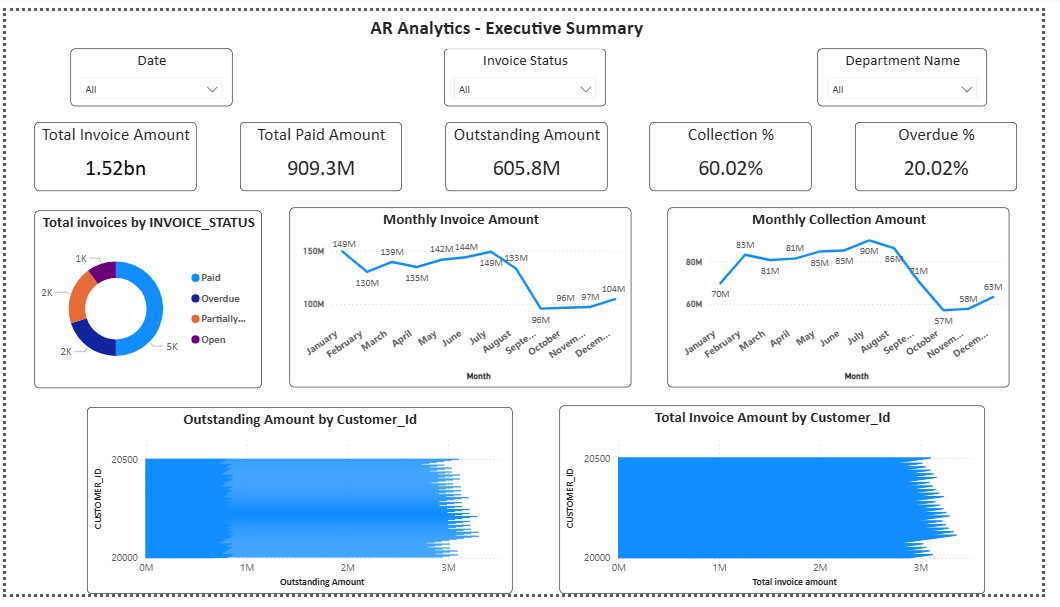

This screenshot's page, from the dashboard's own definition file:
{"tool":"powerbi","page":{"name":"AR Analytics - Executive Summary","canvas":[1280,720],"ordinal":0},"visuals":[{"type":"card","title":"Total Invoice Amount","fields":{"Values":["Table.total invoice amount"]},"box":[36,137.7,200,85],"z":0},{"type":"card","title":"Total Paid Amount","fields":{"Values":["Table.Total paid amount"]},"box":[288.9,137.7,200,85],"z":1000},{"type":"card","title":"Outstanding Amount","fields":{"Values":["Table.Outstanding amount"]},"box":[541.8,137.7,200,85],"z":2000},{"type":"card","title":"Collection %","fields":{"Values":["Table.Collection %"]},"box":[794.7,137.7,200,85],"z":3000},{"type":"card","title":"Overdue %","fields":{"Values":["Table.Overdue %"]},"box":[1047.6,137.7,200,85],"z":4000},{"type":"donutChart","fields":{"Category":["AR_INVOICES.INVOICE_STATUS"],"Y":["Table.Total invoices"]},"box":[34.9,245.5,281,219],"z":5000},{"type":"lineChart","title":"Monthly Invoice Amount","fields":{"Category":["Calendar.Month"],"Y":["Table.Monthly invoice amount"]},"box":[350.8,242.4,422.2,222.2],"z":6000},{"type":"lineChart","title":"Monthly Collection Amount ","fields":{"Category":["Calendar.Month"],"Y":["Table.Monthly collection amount"]},"box":[815.9,242.4,422.2,222.2],"z":7000},{"type":"clusteredBarChart","title":"Outstanding Amount by Customer_Id","fields":{"Category":["AR_INVOICES.CUSTOMER_ID"],"Y":["Table.Outstanding amount"]},"box":[100,488.5,525,230.8],"z":8000},{"type":"clusteredBarChart","title":"Total Invoice Amount by Customer_Id","fields":{"Category":["AR_INVOICES.CUSTOMER_ID"],"Y":["Table.total invoice amount"]},"box":[682.7,486.5,525,232.7],"z":9000},{"type":"slicer","title":"Date","fields":{"Values":["Calendar.Date"]},"box":[79,46,200,71],"z":10000},{"type":"slicer","title":"Invoice Status","fields":{"Values":["AR_INVOICES.INVOICE_STATUS"]},"box":[540.9,46,200,71],"z":11000},{"type":"slicer","title":"Department Name","fields":{"Values":["AR_DEPARTMENTS.DEPARTMENT_NAME"]},"box":[1002.8,46,209.5,71.4],"z":12000},{"type":"textbox","box":[350.4,0,476.5,46.5],"z":13000}]}

Visuals, with their boxes in screenshot pixels (x1, y1, x2, y2), scaled from the page's 1280x720 canvas onto the 1060x607 screenshot:
"Total Invoice Amount" card: [30,116,195,188]
"Total Paid Amount" card: [239,116,405,188]
"Outstanding Amount" card: [449,116,614,188]
"Collection %" card: [658,116,824,188]
"Overdue %" card: [868,116,1033,188]
donutChart - AR_INVOICES.INVOICE_STATUS x Table.Total invoices: [29,207,262,392]
"Monthly Invoice Amount" lineChart: [291,204,640,392]
"Monthly Collection Amount " lineChart: [676,204,1025,392]
"Outstanding Amount by Customer_Id" clusteredBarChart: [83,412,518,606]
"Total Invoice Amount by Customer_Id" clusteredBarChart: [565,410,1000,606]
"Date" slicer: [65,39,231,99]
"Invoice Status" slicer: [448,39,614,99]
"Department Name" slicer: [830,39,1004,99]
textbox: [290,0,685,39]
